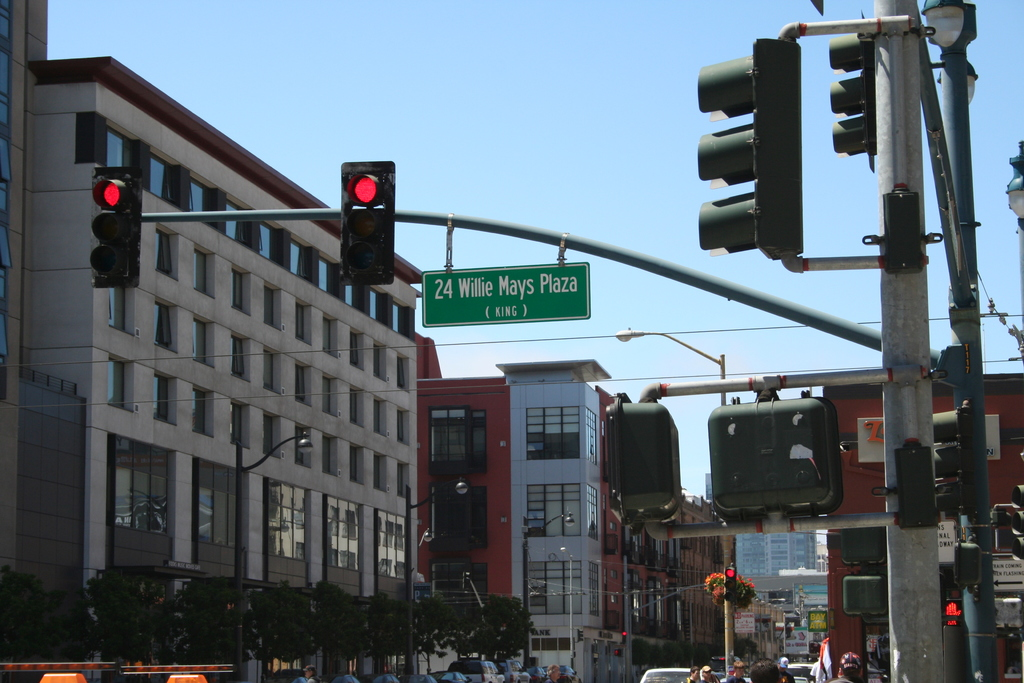red_light: (343, 164, 393, 277), (95, 174, 137, 287)
